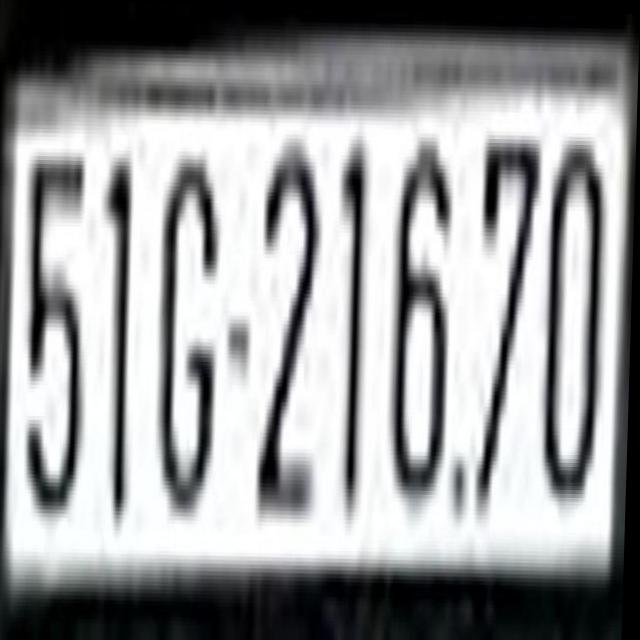0: (543, 103, 606, 504)
1: (334, 134, 376, 531), (99, 149, 136, 542)
2: (253, 129, 331, 541)
5: (24, 144, 91, 518)
6: (385, 88, 456, 512)
7: (473, 105, 542, 521)
G: (153, 123, 222, 547)
